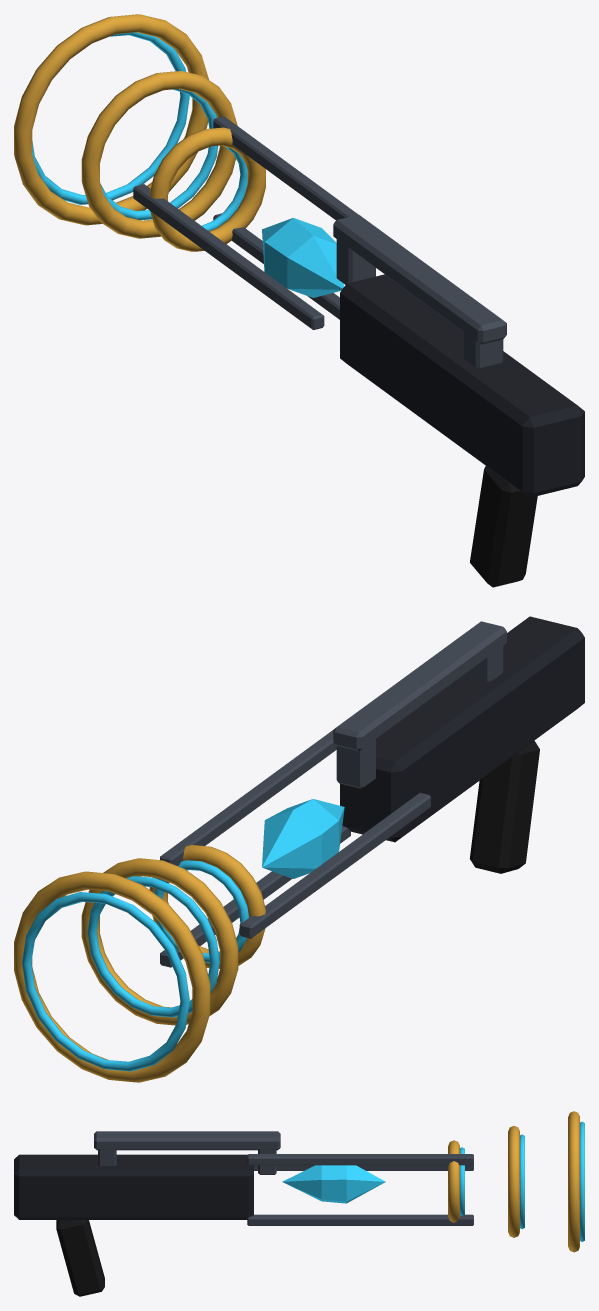
Rendered from gun_sonic_pulse.obj.
The picture shows the model from 3 angles, top to bottom: view 1: azimuth 30°, elevation 25°; view 2: azimuth 150°, elevation 25°; view 3: azimuth 270°, elevation 25°; orthographic projection. The views are drawn at different scales.
Visible parts, largest first — view 1: Body, DishFrame_2, DishFrame_1, TopHandle, Grip, SonicCore, DishFrame_0, CageStrut_0, CageStrut_120, DishGlow_2, DishGlow_1, HandlePillarF (+3 smaller); view 2: Body, DishFrame_2, TopHandle, Grip, DishFrame_1, DishGlow_2, SonicCore, CageStrut_0, CageStrut_120, DishGlow_1, DishFrame_0, HandlePillarF (+3 smaller); view 3: Body, TopHandle, CageStrut_120, CageStrut_240, Grip, SonicCore, DishFrame_2, DishFrame_1, DishFrame_0, CageStrut_0, DishGlow_2, DishGlow_1 (+3 smaller).
Part boxes in pixels (x1,y1,x2,y2): Body: [340, 274, 584, 497]; DishFrame_2: [14, 14, 208, 225]; DishFrame_1: [81, 71, 237, 238]; TopHandle: [333, 214, 506, 344]; Grip: [470, 466, 537, 587]; SonicCore: [262, 218, 344, 297]; DishFrame_0: [149, 127, 265, 251]; CageStrut_0: [133, 184, 324, 329]; CageStrut_120: [213, 116, 357, 220]; DishGlow_2: [32, 32, 189, 204]; DishGlow_1: [100, 89, 218, 220]; HandlePillarF: [336, 239, 375, 284]; Body: [340, 616, 584, 842]; DishFrame_2: [14, 871, 210, 1082]; TopHandle: [333, 621, 506, 751]; Grip: [469, 740, 539, 873]; DishFrame_1: [81, 858, 238, 1025]; DishGlow_2: [22, 892, 189, 1071]; SonicCore: [262, 799, 344, 878]; CageStrut_0: [239, 793, 430, 938]; CageStrut_120: [160, 730, 336, 865]; DishGlow_1: [87, 876, 219, 1017]; DishFrame_0: [149, 845, 265, 968]; HandlePillarF: [336, 739, 375, 788]; Body: [14, 1154, 253, 1219]; TopHandle: [94, 1131, 280, 1150]; CageStrut_120: [247, 1154, 473, 1165]; CageStrut_240: [247, 1214, 473, 1225]; Grip: [56, 1220, 104, 1296]; SonicCore: [282, 1165, 385, 1203]; DishFrame_2: [568, 1111, 579, 1252]; DishFrame_1: [508, 1126, 519, 1237]; DishFrame_0: [448, 1140, 459, 1222]; CageStrut_0: [254, 1164, 473, 1170]; DishGlow_2: [580, 1121, 584, 1241]; DishGlow_1: [520, 1134, 524, 1229].
Size of the model in its own units: 0.2118 by 0.2908 by 0.8563.
